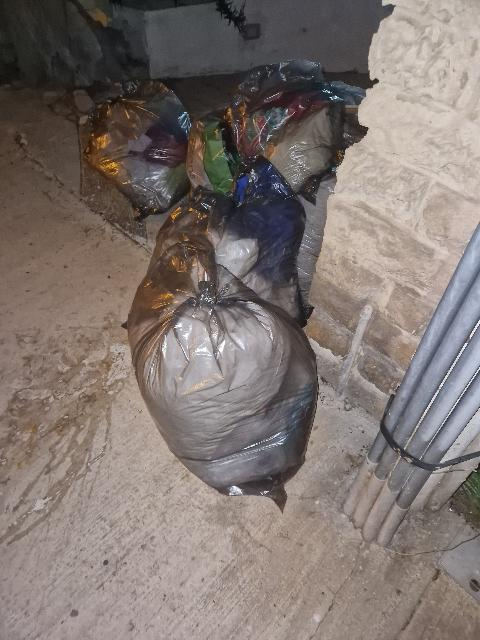Recyclable -Grey-: (128, 206, 318, 506), (226, 61, 360, 192), (207, 160, 307, 322), (85, 81, 191, 219), (186, 108, 233, 193)
